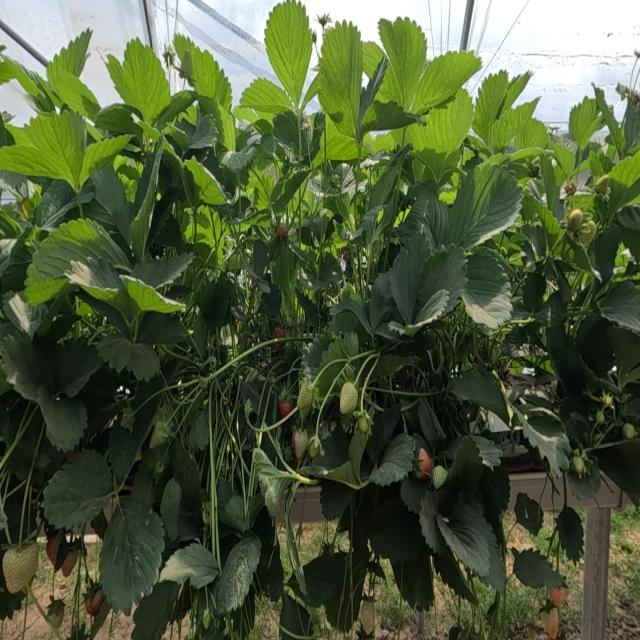Leaves: (109, 363, 175, 480), (100, 496, 164, 614), (447, 165, 522, 251), (32, 220, 130, 278), (42, 450, 113, 529), (318, 21, 363, 137), (265, 0, 312, 107), (17, 113, 84, 188), (378, 17, 426, 110), (412, 51, 481, 113), (461, 248, 512, 329), (387, 232, 430, 325), (123, 38, 170, 121), (436, 504, 490, 576), (3, 333, 59, 401), (216, 535, 261, 614), (288, 549, 347, 608), (419, 247, 467, 315), (424, 89, 473, 155), (519, 415, 571, 477), (37, 388, 87, 451), (547, 320, 586, 399), (451, 367, 508, 420), (47, 28, 92, 94), (91, 165, 131, 238), (97, 334, 160, 380), (131, 581, 180, 639), (317, 332, 361, 396), (190, 44, 232, 110), (0, 127, 54, 178), (160, 543, 219, 588), (401, 194, 448, 250), (56, 340, 102, 397), (473, 70, 508, 143), (48, 71, 100, 120), (368, 433, 415, 487), (595, 440, 640, 496), (79, 135, 130, 184), (253, 449, 290, 516), (171, 441, 202, 520), (369, 148, 409, 209), (273, 110, 319, 161), (284, 490, 306, 595), (492, 99, 538, 148), (597, 281, 640, 333), (131, 253, 193, 289), (512, 548, 564, 588), (66, 258, 125, 292), (3, 293, 47, 337), (184, 157, 225, 204), (240, 78, 292, 114), (198, 279, 233, 332), (569, 97, 602, 150), (364, 100, 420, 131), (311, 428, 350, 471), (201, 100, 235, 149), (217, 475, 246, 532), (271, 241, 296, 302), (556, 507, 583, 562), (369, 274, 395, 331), (280, 596, 313, 639), (258, 546, 283, 601), (331, 299, 371, 333), (132, 451, 155, 508), (160, 478, 181, 540), (514, 492, 543, 536), (187, 111, 217, 149), (609, 151, 640, 187), (548, 141, 575, 180), (376, 65, 402, 104), (515, 119, 547, 148), (220, 147, 256, 172), (363, 41, 384, 78), (502, 328, 528, 356), (311, 210, 330, 241), (336, 164, 354, 194)
Strawberries: (2, 542, 38, 593), (46, 597, 65, 630), (540, 607, 559, 639), (340, 382, 358, 414), (359, 598, 375, 634), (85, 589, 105, 617), (292, 429, 309, 461), (60, 549, 79, 577), (297, 379, 312, 414), (46, 534, 61, 567), (417, 447, 432, 478), (579, 220, 596, 244), (432, 465, 448, 489), (567, 209, 583, 233), (548, 587, 566, 607), (571, 455, 586, 478), (594, 174, 609, 193), (278, 400, 293, 418), (358, 414, 370, 434), (623, 423, 636, 439), (276, 223, 286, 239), (273, 327, 285, 338), (596, 411, 604, 424)
